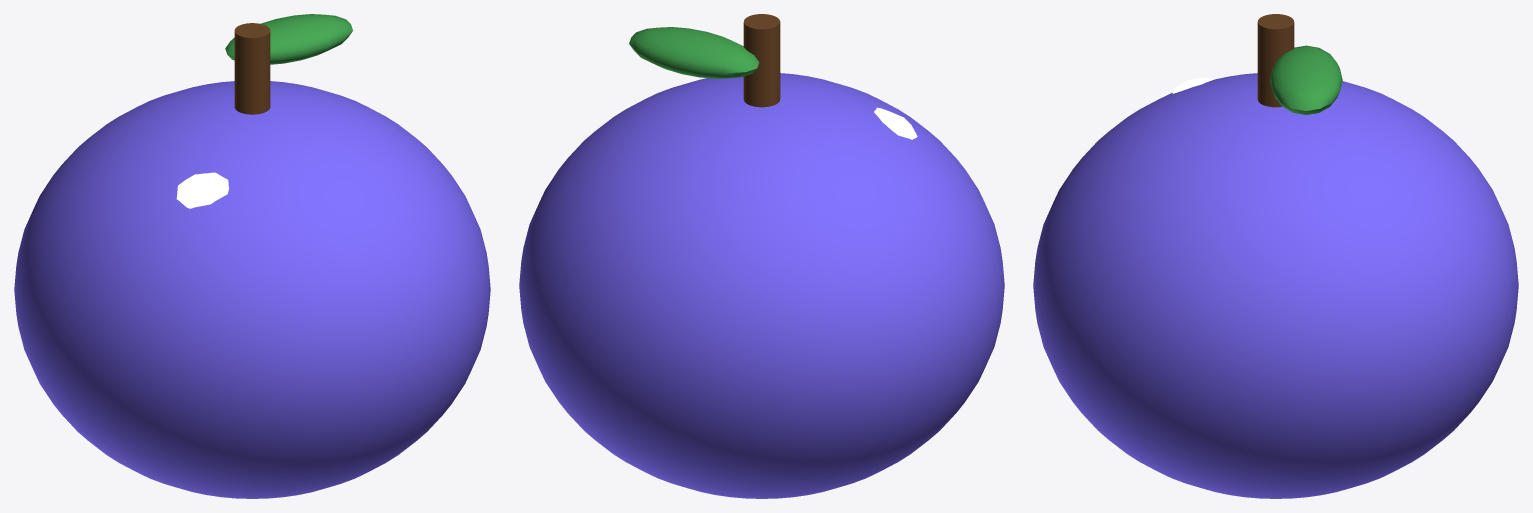
File: jablko_fialove.glb
3 views of the same model, side by side, from view 1: azimuth 30°, elevation 25°; view 2: azimuth 150°, elevation 25°; view 3: azimuth 270°, elevation 25° (orthographic).
Parts seen in each view (by area): view 1: jablko_fialove_m, jablko_fialove_list, jablko_fialove_stopka, jablko_fialove_lesk; view 2: jablko_fialove_m, jablko_fialove_list, jablko_fialove_stopka, jablko_fialove_lesk; view 3: jablko_fialove_m, jablko_fialove_list, jablko_fialove_stopka.
Boxes of the visible parts, x1=… form: jablko_fialove_m: x1=14, y1=81, x2=490, y2=498; jablko_fialove_list: x1=225, y1=14, x2=352, y2=64; jablko_fialove_stopka: x1=234, y1=23, x2=270, y2=114; jablko_fialove_lesk: x1=176, y1=172, x2=228, y2=208; jablko_fialove_m: x1=519, y1=73, x2=1004, y2=498; jablko_fialove_list: x1=629, y1=27, x2=759, y2=78; jablko_fialove_stopka: x1=743, y1=14, x2=780, y2=107; jablko_fialove_lesk: x1=874, y1=107, x2=917, y2=139; jablko_fialove_m: x1=1033, y1=73, x2=1518, y2=498; jablko_fialove_list: x1=1270, y1=45, x2=1342, y2=114; jablko_fialove_stopka: x1=1257, y1=14, x2=1294, y2=107.
Bounding box in the file's own units: 0.8 × 0.82 × 0.8.
